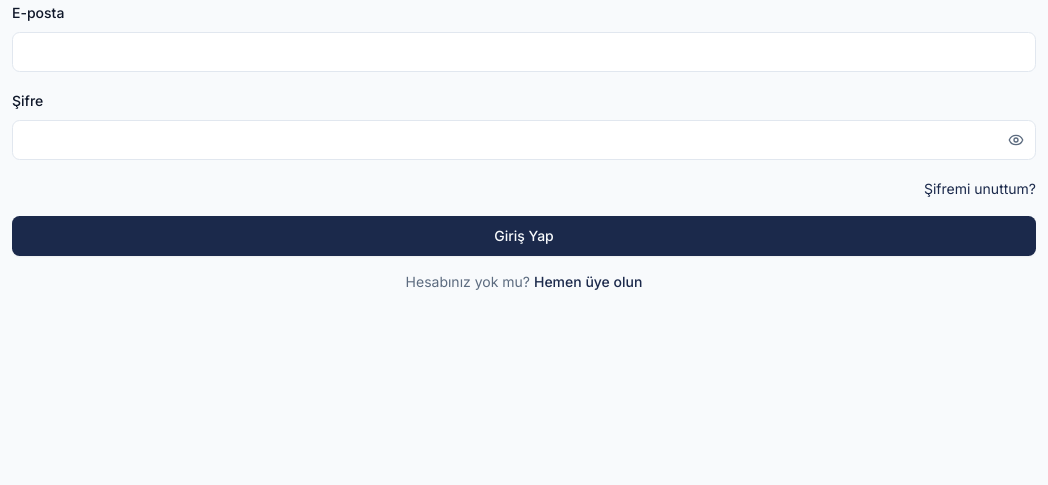
Scenario: Giriş formu — bayat alan hatası bırakmaz › kurtarma koduna geçince ESKİ kod hatası kalkar
Type "a@b.com" into the field labelled "E-posta".
click(524, 52); type("a@b.com")  # box x1=12 y1=32 x2=1036 y2=72
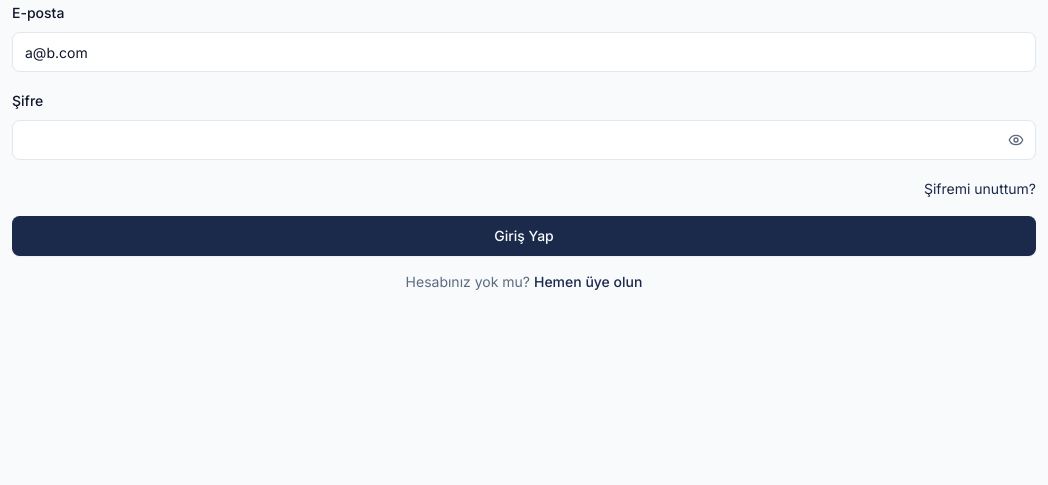
Type "sifre1234" into the password field labelled "Şifre".
click(524, 140); type("sifre1234")  # box x1=12 y1=120 x2=1036 y2=160
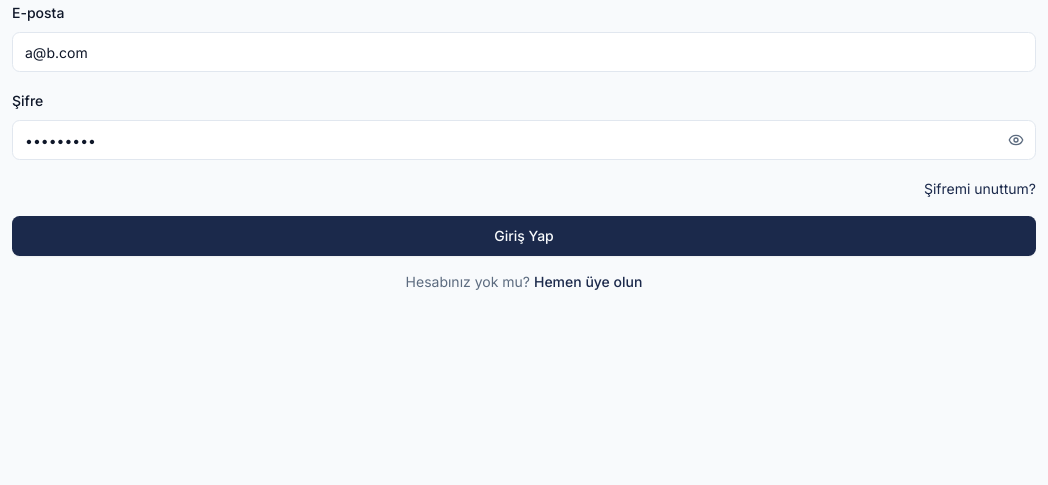
Submit the form labelled "E-posta", box x1=12 y1=0 x2=1036 y2=292
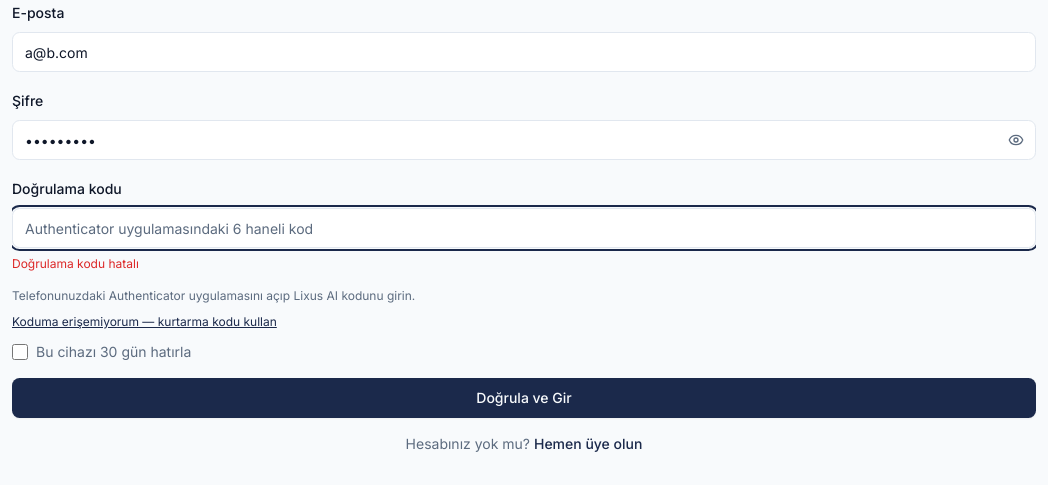
Click the button "Koduma erişemiyorum — kurtarma kodu kullan".
click(144, 322)  # box x1=12 y1=314 x2=277 y2=330
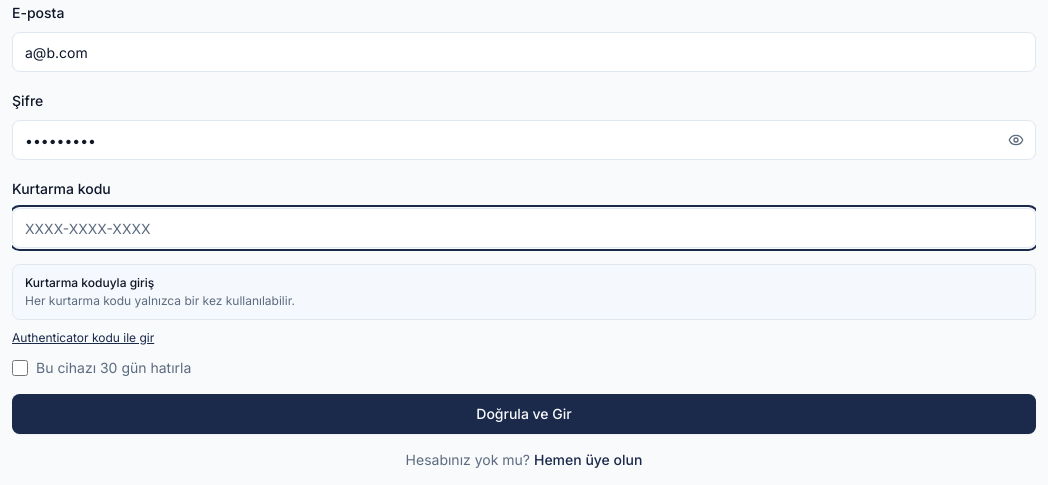
expect the text "Doğrulama kodu hatalı" is gone: met
